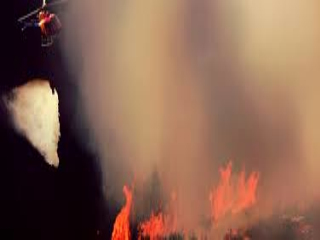fire: (102, 166, 278, 236)
smoke: (9, 76, 67, 173)
